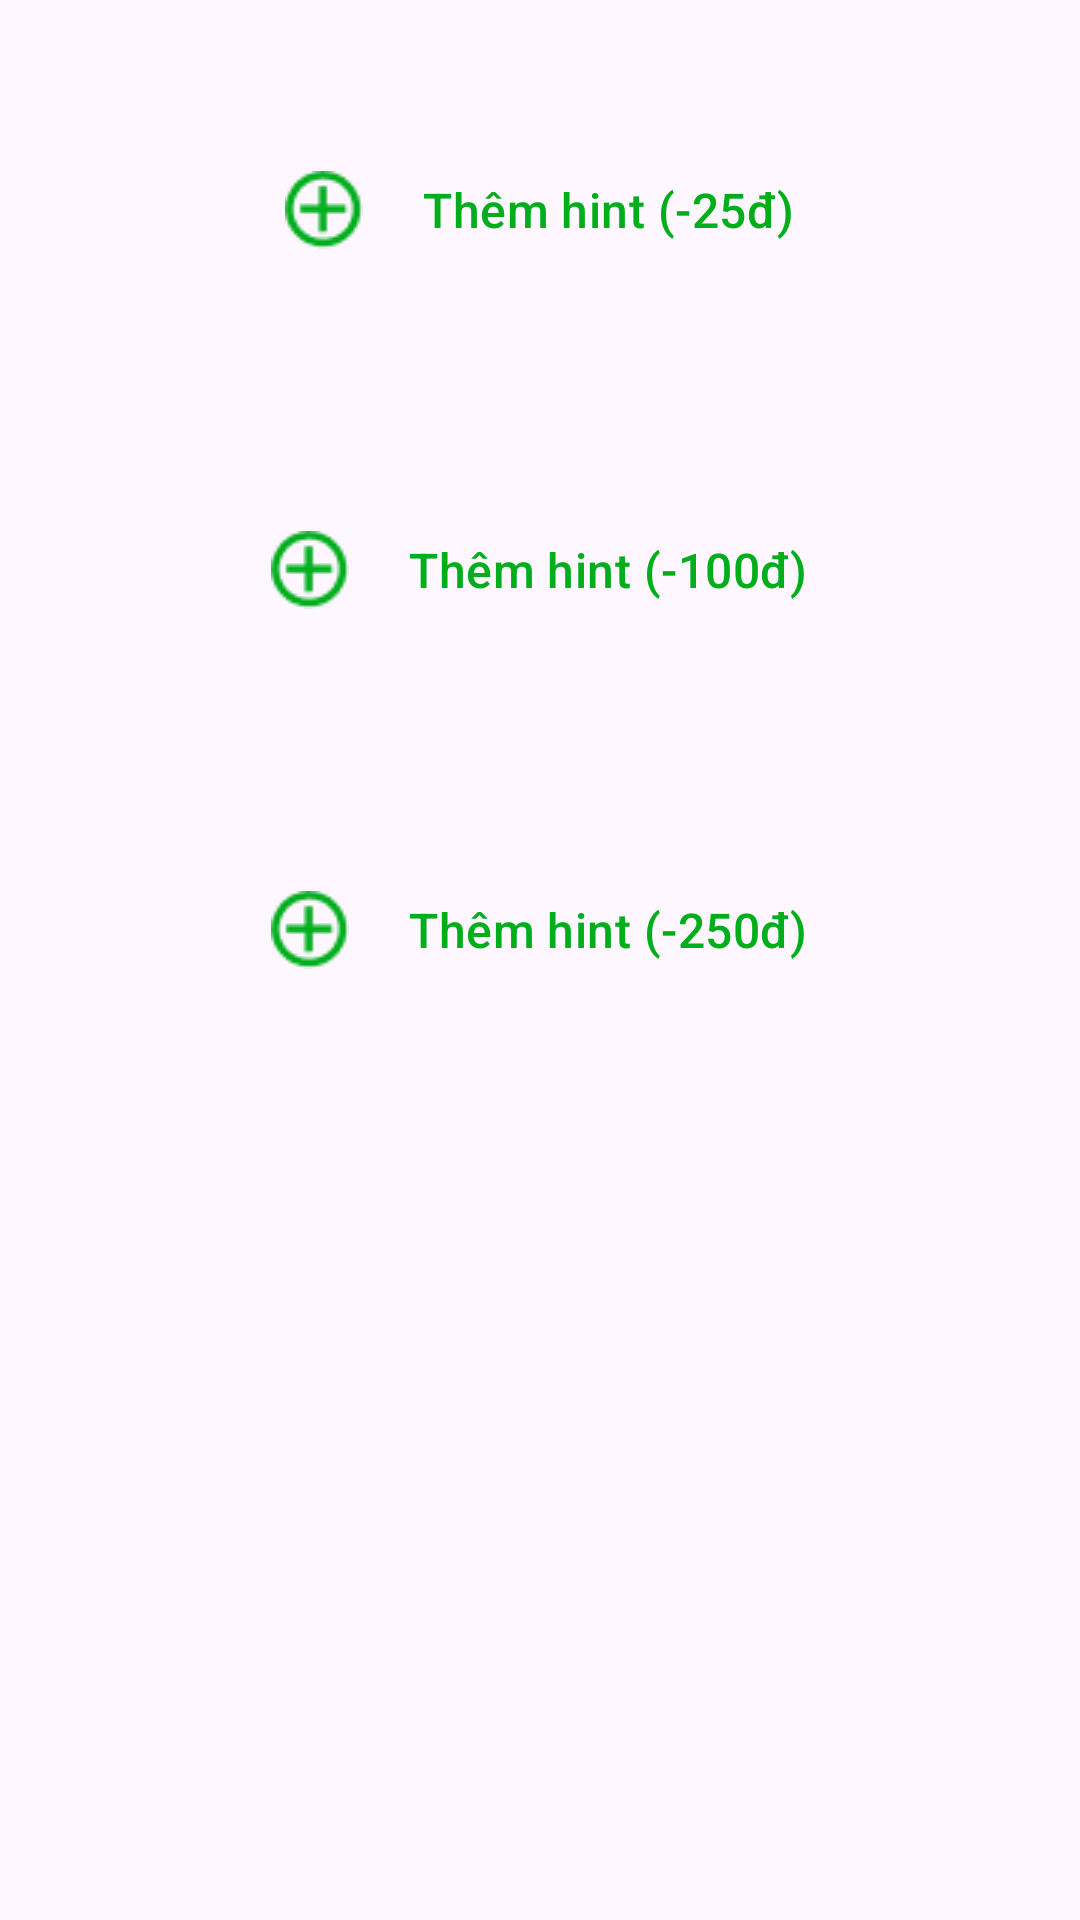

Screen size 1080*1920. Icon name, then its box in pixels as (x1, y1, x2, y2):
add: (285, 171, 363, 249), (271, 531, 349, 609), (271, 891, 349, 969)
